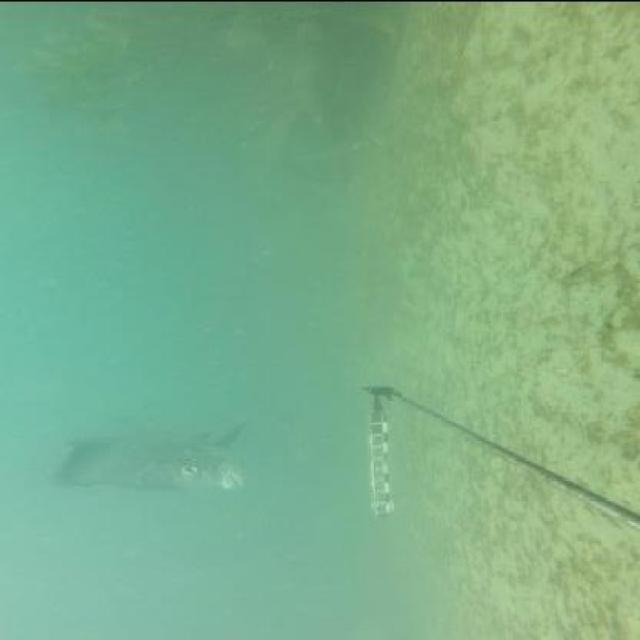acanthopagrus_palmaris: (45, 419, 253, 495)
